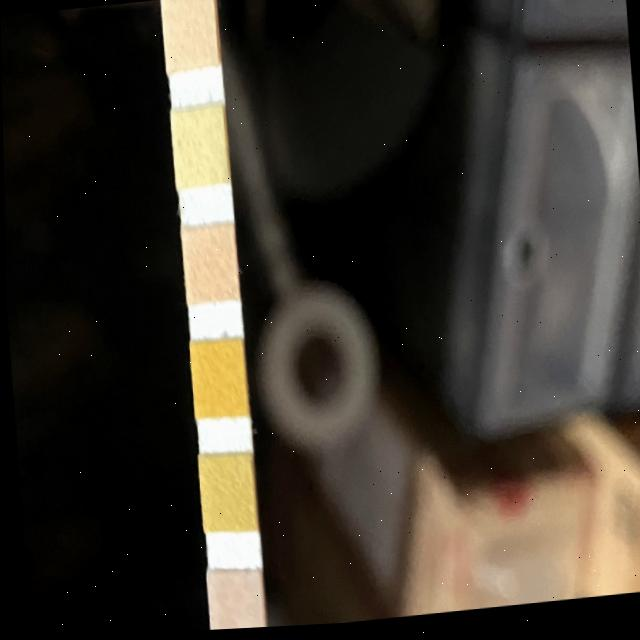Blood: (187, 341, 246, 421)
Ketone: (203, 573, 262, 632)
Protein: (170, 110, 228, 190)
SpGravity: (196, 455, 255, 533)
Urobilinogen: (160, 0, 219, 75)
pH: (180, 226, 237, 305)
